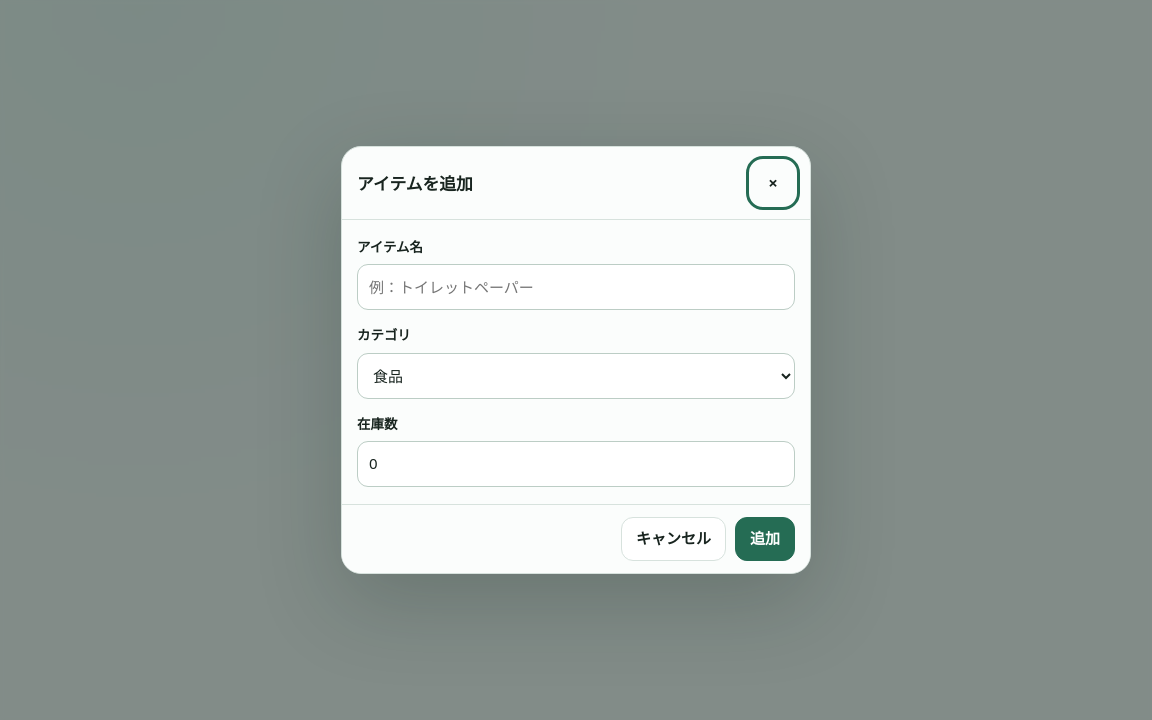
ItemFormModal › rejects an invalid direct quantity: -1
The image size is (1152, 720).
In the field labelled "アイテム名": (576, 287) [357, 264, 795, 310], type "牛乳"
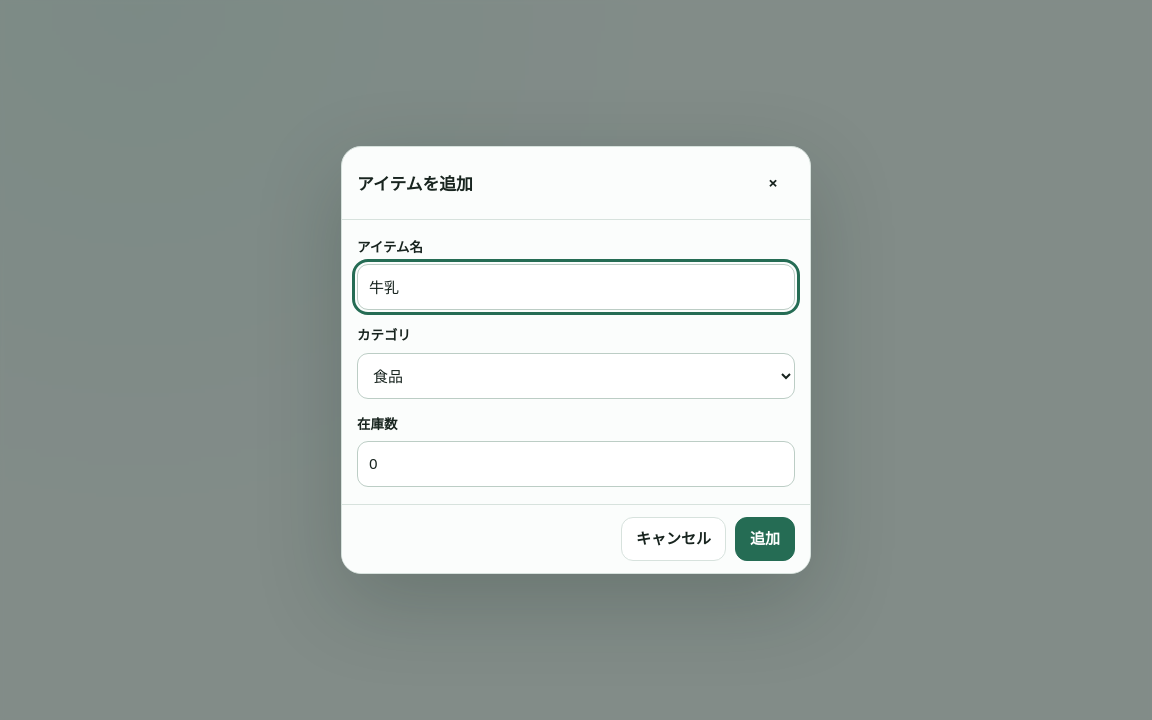
Replace the text in the number field labelled "在庫数" with "-1": (576, 464) [357, 441, 795, 487]
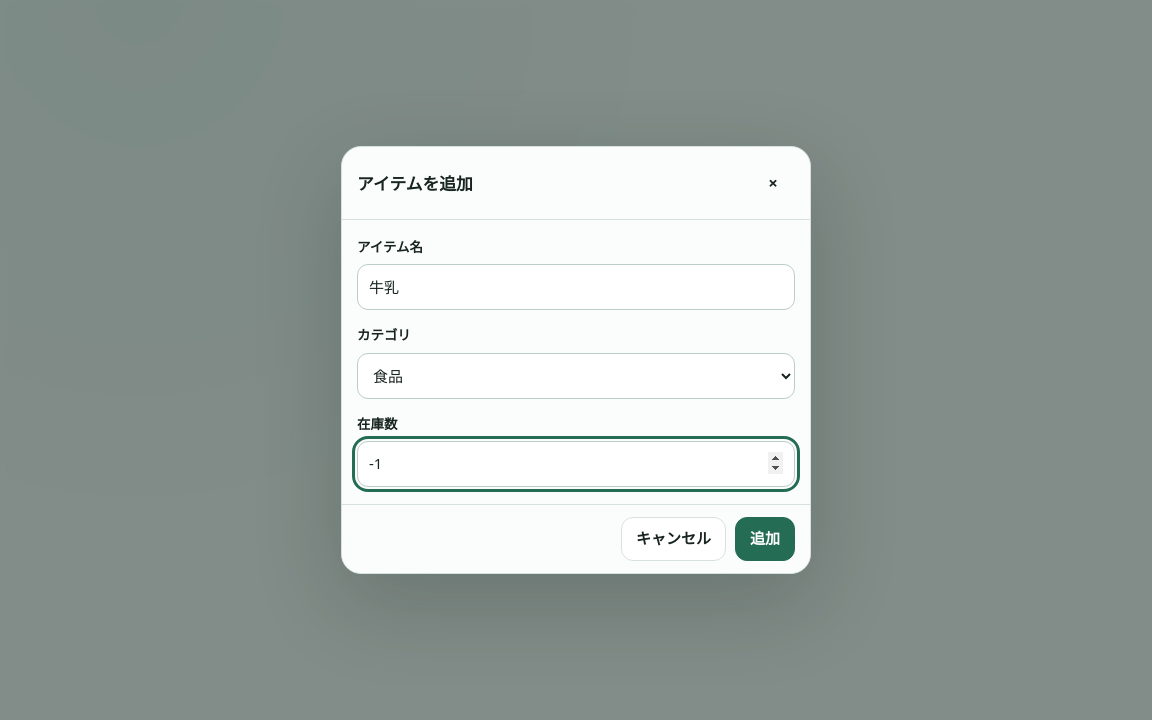
Submit the form with id "item-form", box [357, 237, 795, 487]
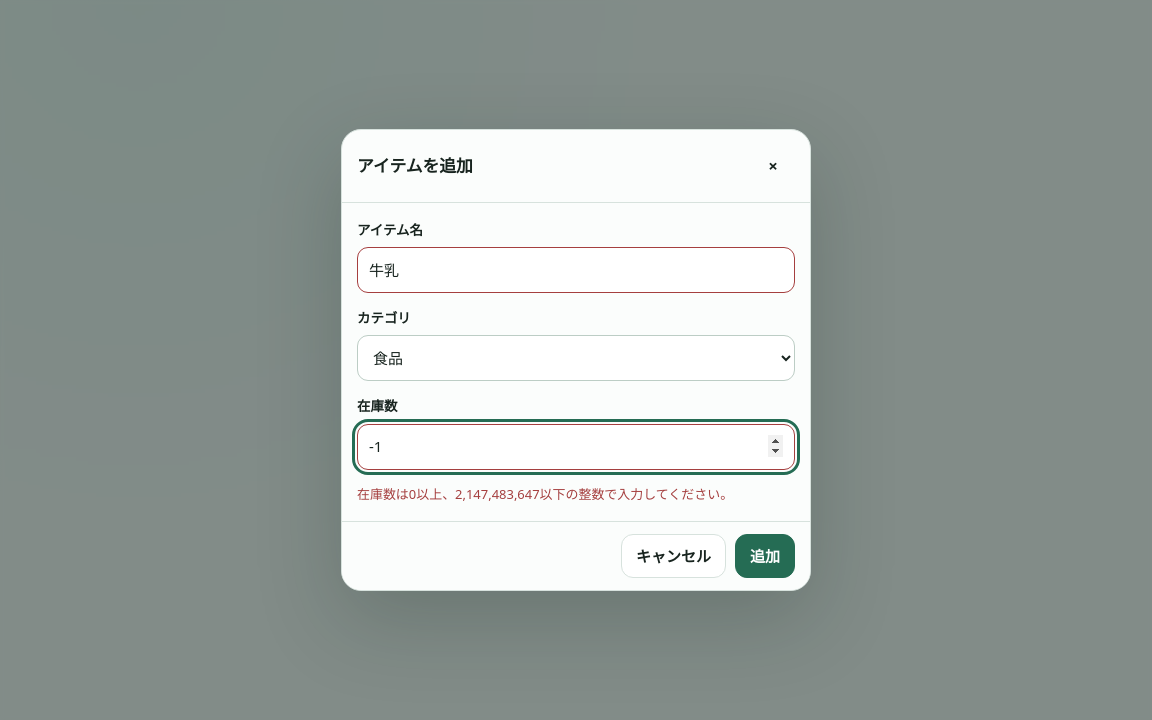
Check: the message reads "在庫数は0以上、2,147,483,647以下の整数で入力してください。", box [357, 484, 733, 502]
